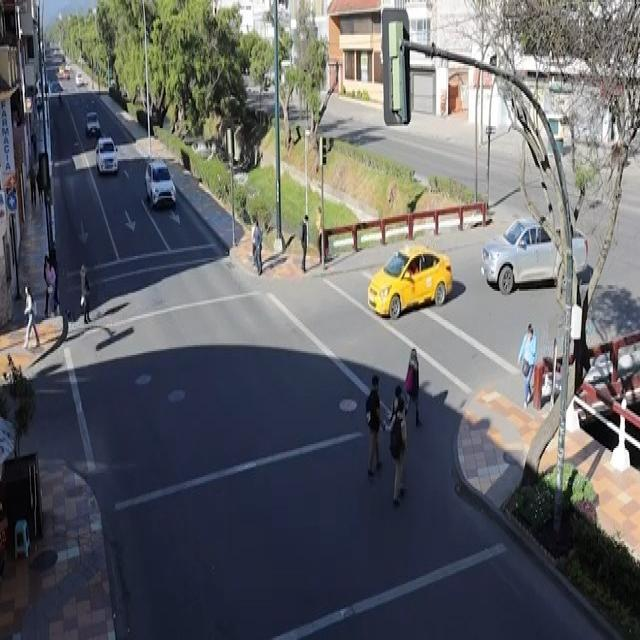CMT: (484, 222, 593, 294)
SED: (366, 243, 455, 321)
SUV: (140, 158, 181, 206)
